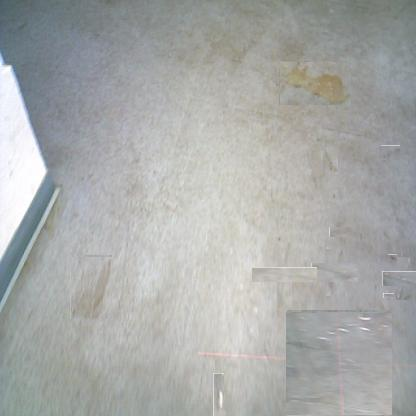liquid: (287, 311, 392, 415), (279, 61, 351, 105), (388, 264, 416, 292), (213, 373, 224, 416)
mark: (70, 256, 112, 320), (264, 255, 305, 295), (318, 256, 352, 289), (322, 146, 338, 172), (380, 145, 400, 160), (333, 224, 349, 241), (12, 22, 30, 34), (388, 254, 397, 262), (331, 191, 337, 201), (372, 282, 378, 292), (384, 292, 392, 299), (275, 235, 281, 243)
